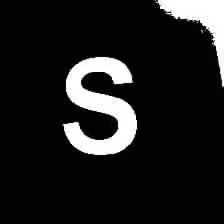LTR_S: (56, 49, 141, 156)
